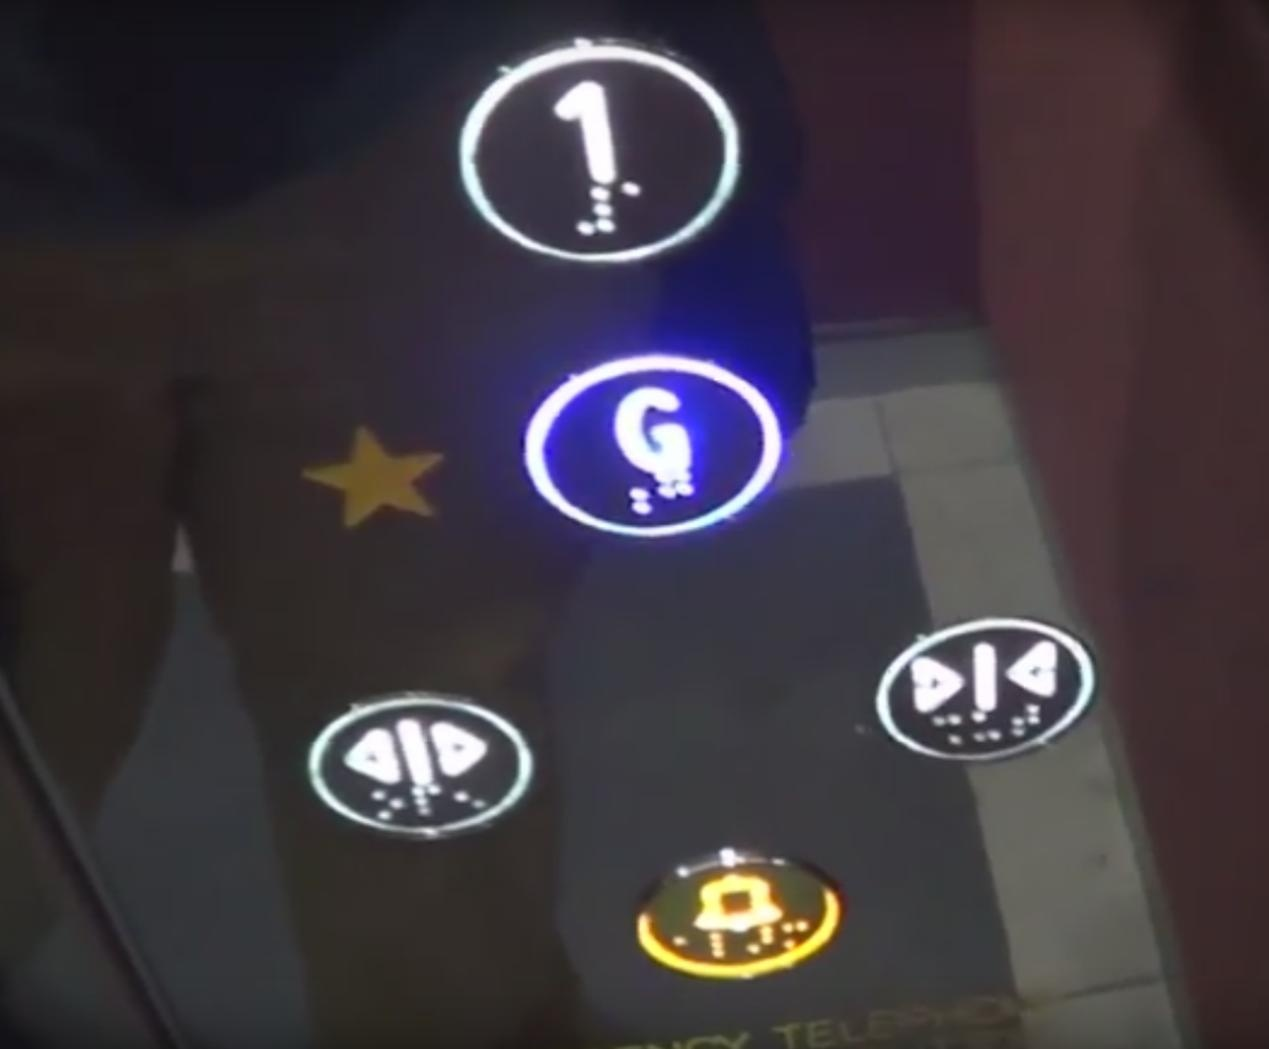1: (451, 27, 748, 270)
G: (512, 343, 792, 549)
alarm: (625, 844, 843, 980)
close: (863, 610, 1104, 769)
open: (299, 684, 539, 843)
